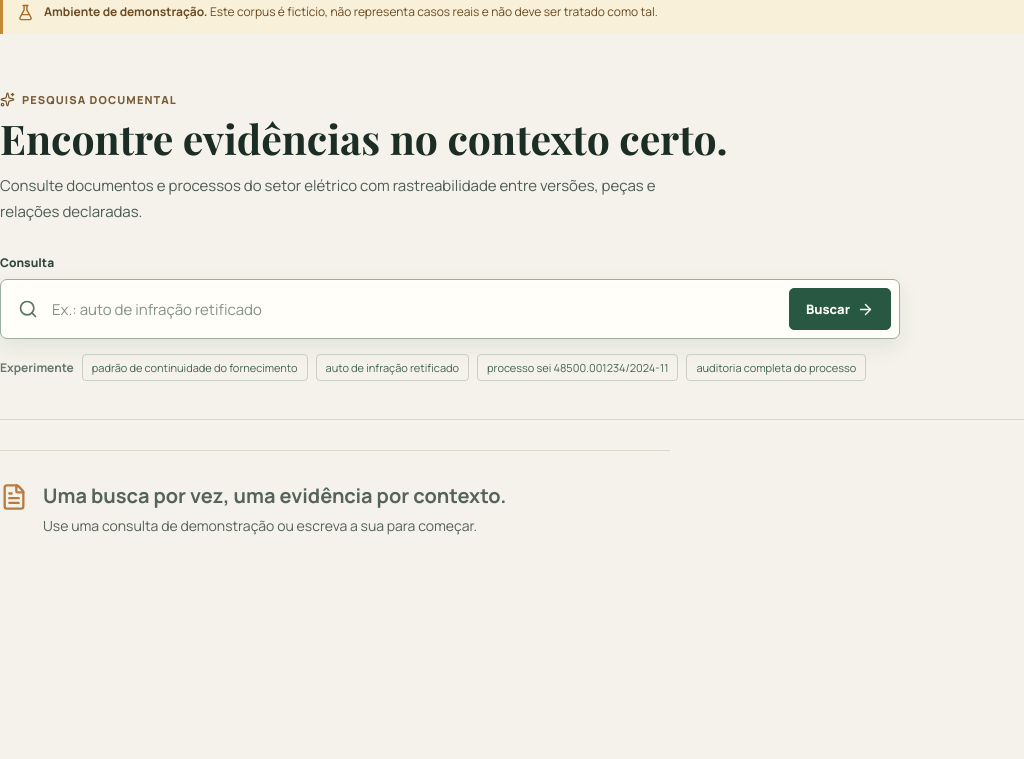
Test case: SearchPage › mostra os cards de resultado, com a face e as etiquetas de versão dos trechos
Click the button "auto de infração retificado" at (392, 368), box [316,354,469,381]
(page scrolled)
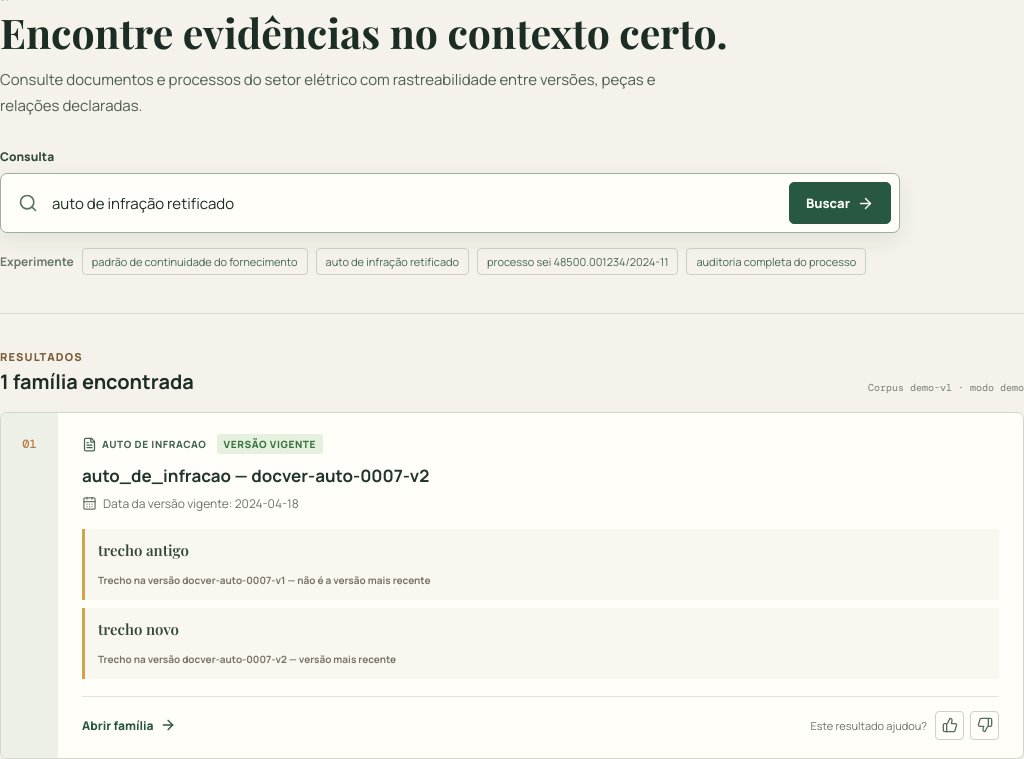
Expected: the heading "auto_de_infracao — docver-auto-0007-v2" is shown, [82,464,429,487]
Expected: the text "não é a versão mais recente" is shown, [297,573,430,587]
Expected: the text "Trecho na versão docver-auto-0007-v2 — versão mais recente" is shown, [98,652,396,666]
